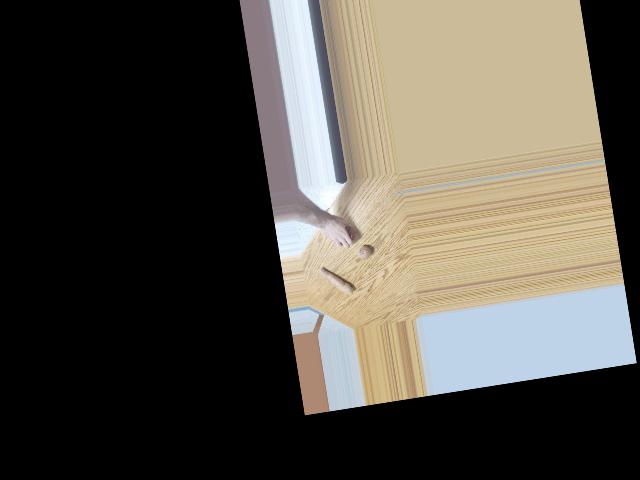onion: (339, 223, 357, 243)
